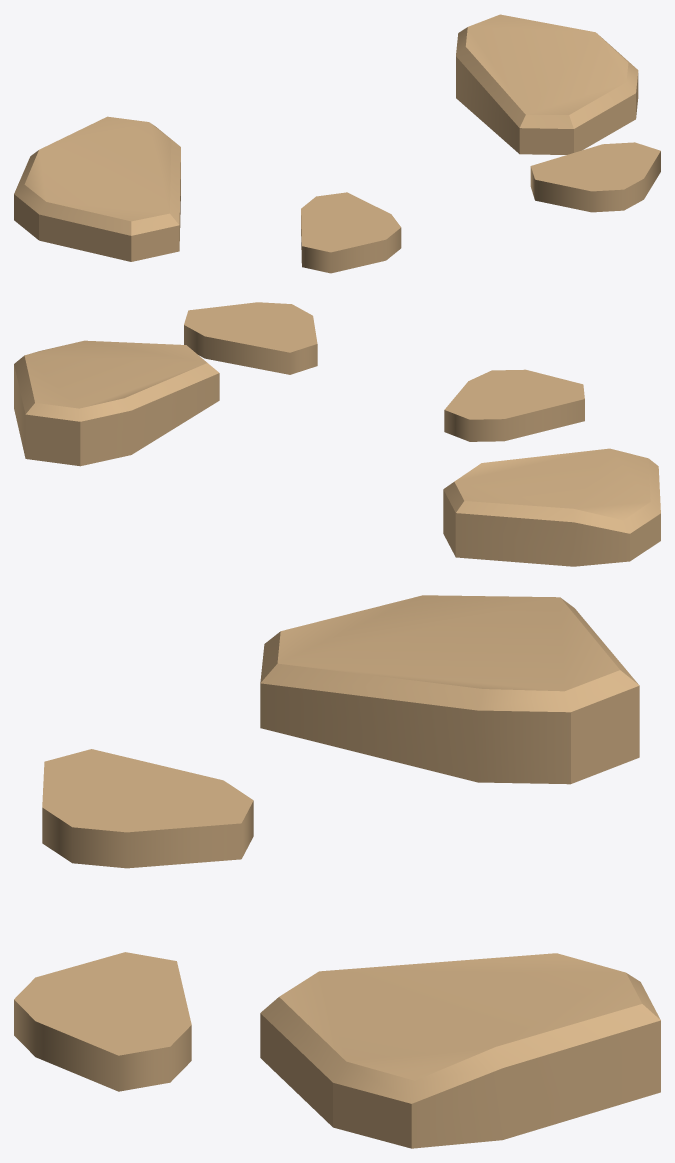
Rendered from Stone.FBX.
The picture shows the model from 3 angles, top to bottom: view 1: azimuth 30°, elevation 25°; view 2: azimuth 150°, elevation 25°; view 3: azimuth 270°, elevation 25°; orthographic projection. The views are drawn at different scales.
Parts seen in each view (by area): view 1: Cylinder075; view 2: Cylinder075; view 3: Cylinder075.
Part boxes in pixels (left/top/right/bottom): Cylinder075: left=14, top=14, right=660, bottom=273; Cylinder075: left=14, top=302, right=660, bottom=566; Cylinder075: left=14, top=595, right=660, bottom=1148.
Size of the model in its own units: 1352 by 109 by 741.
